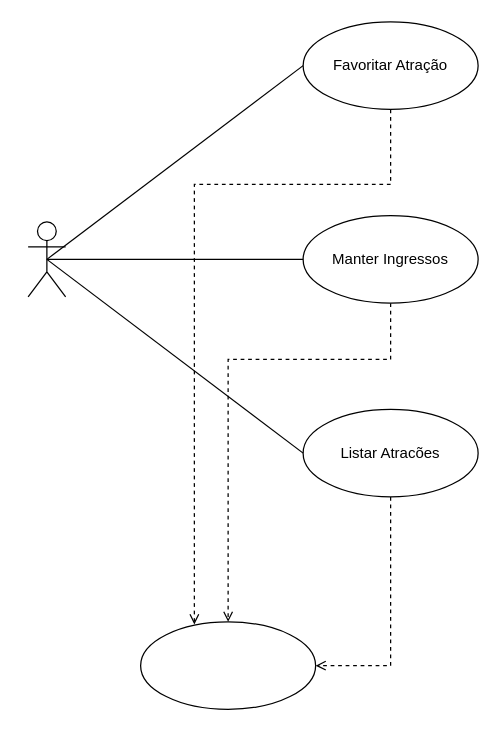
Some shapes in this 500 by 731 pixel diagram are drawn without their labels. The shapes that lost their labels are listed below. From the top down, each one's centre as x and y in pixels, then its label:
At pixel 46 259: "Usuário".
At pixel 227 665: "Manter Login".
